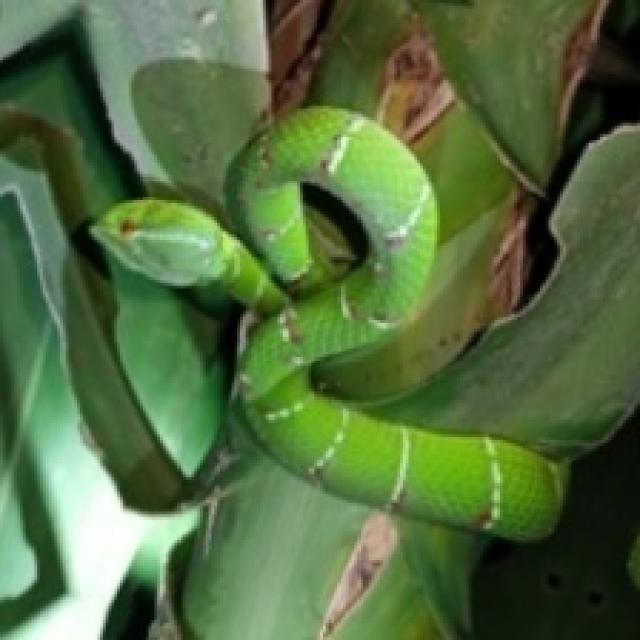north ph temple pitviper: (91, 106, 563, 537)
